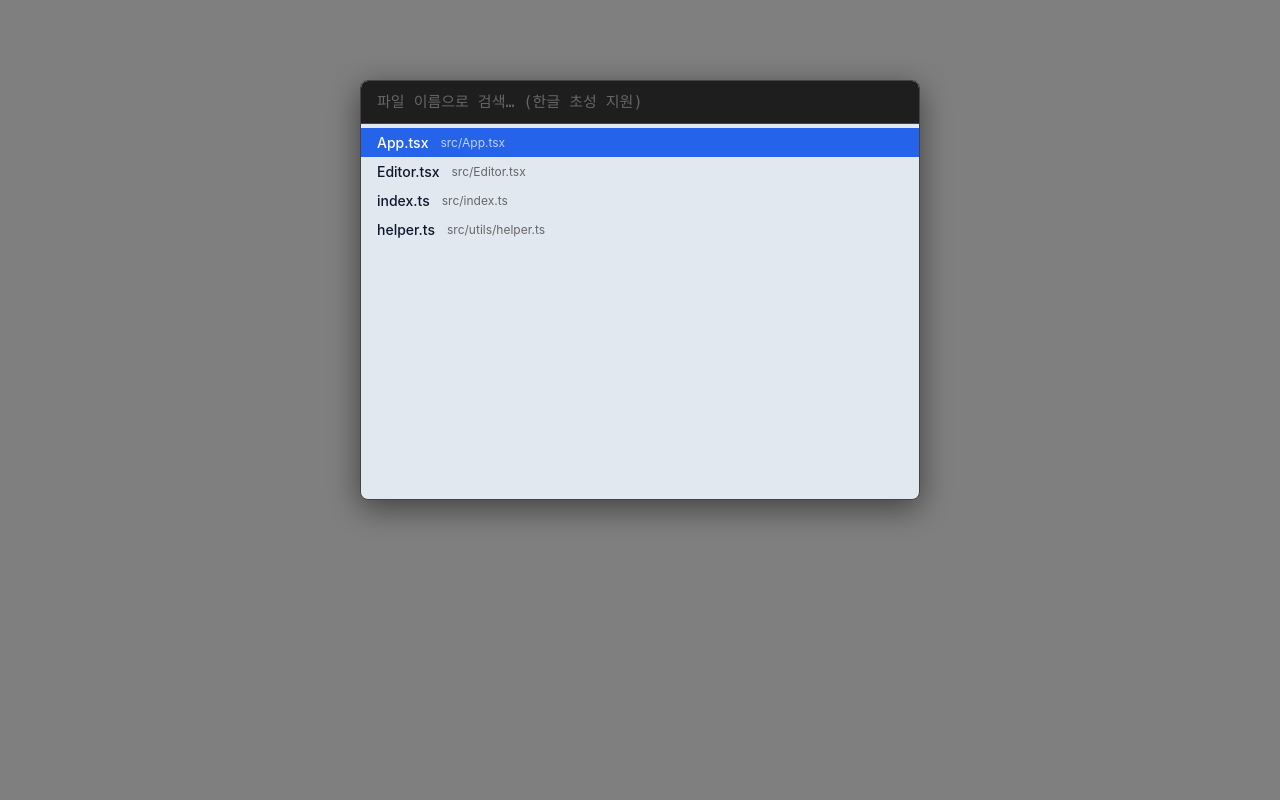
QuickOpen › filters files by query
Expected: the text "App.tsx" is shown, [377,134,428,151]
Type "edit" into the field with placeholder "파일 이름으로 검색… (한글 초성 지원)" at (640, 102), box [361,81,919,124]
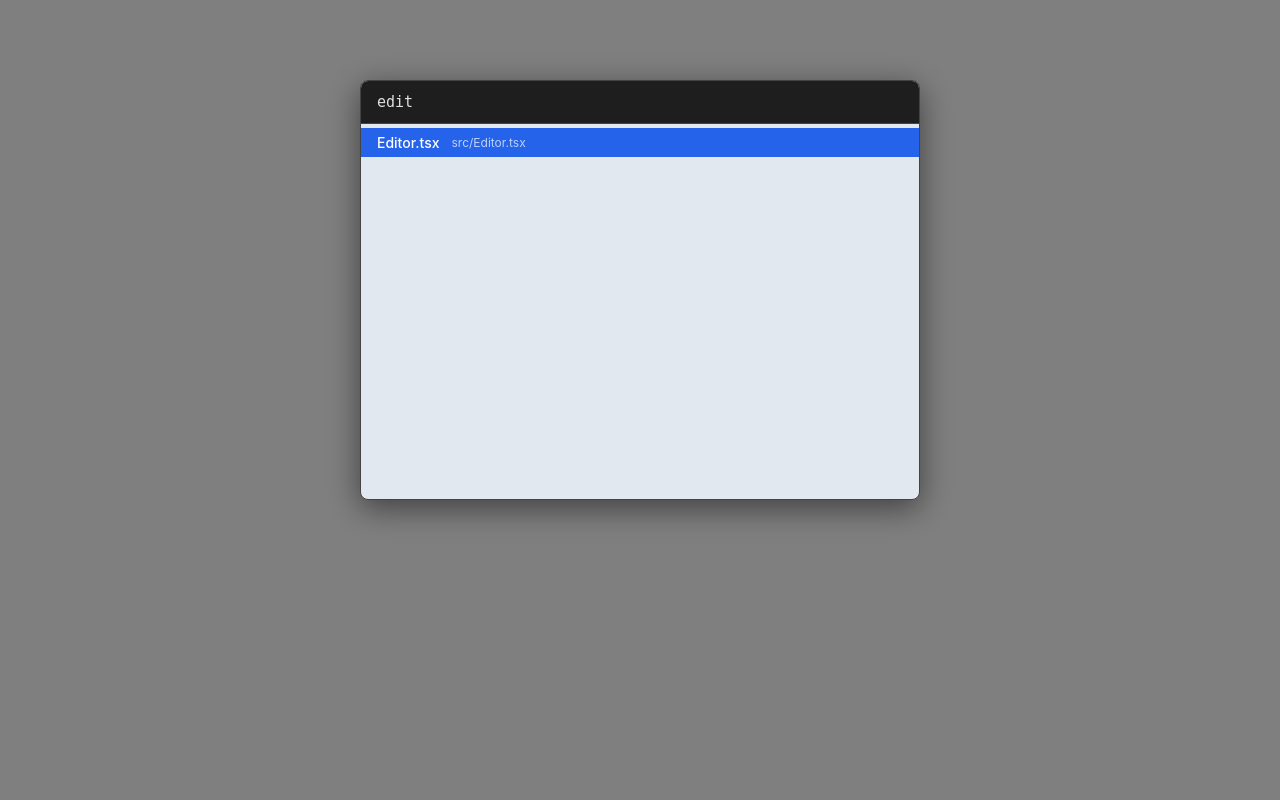
Expected: the text "Editor.tsx" is shown, [377,134,440,151]
Expected: the text "App.tsx" is gone
